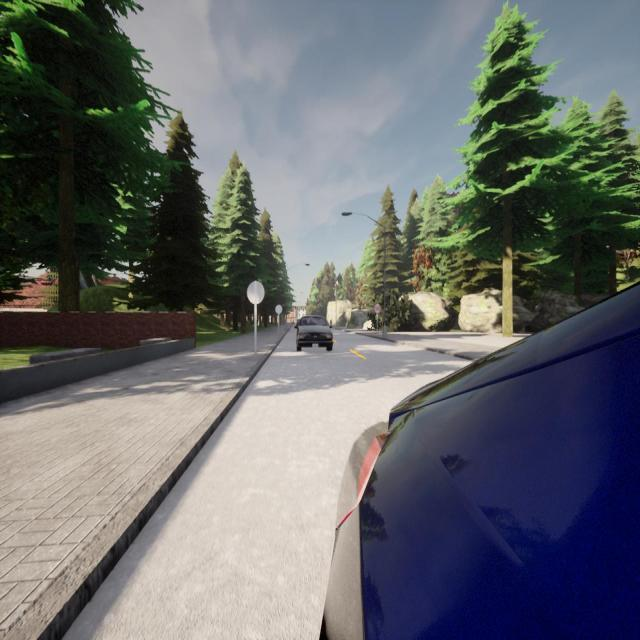Traffic_Signs: (246, 280, 265, 305), (373, 302, 382, 314), (274, 305, 283, 316)
Vehicle: (324, 283, 640, 638), (295, 315, 332, 351)
